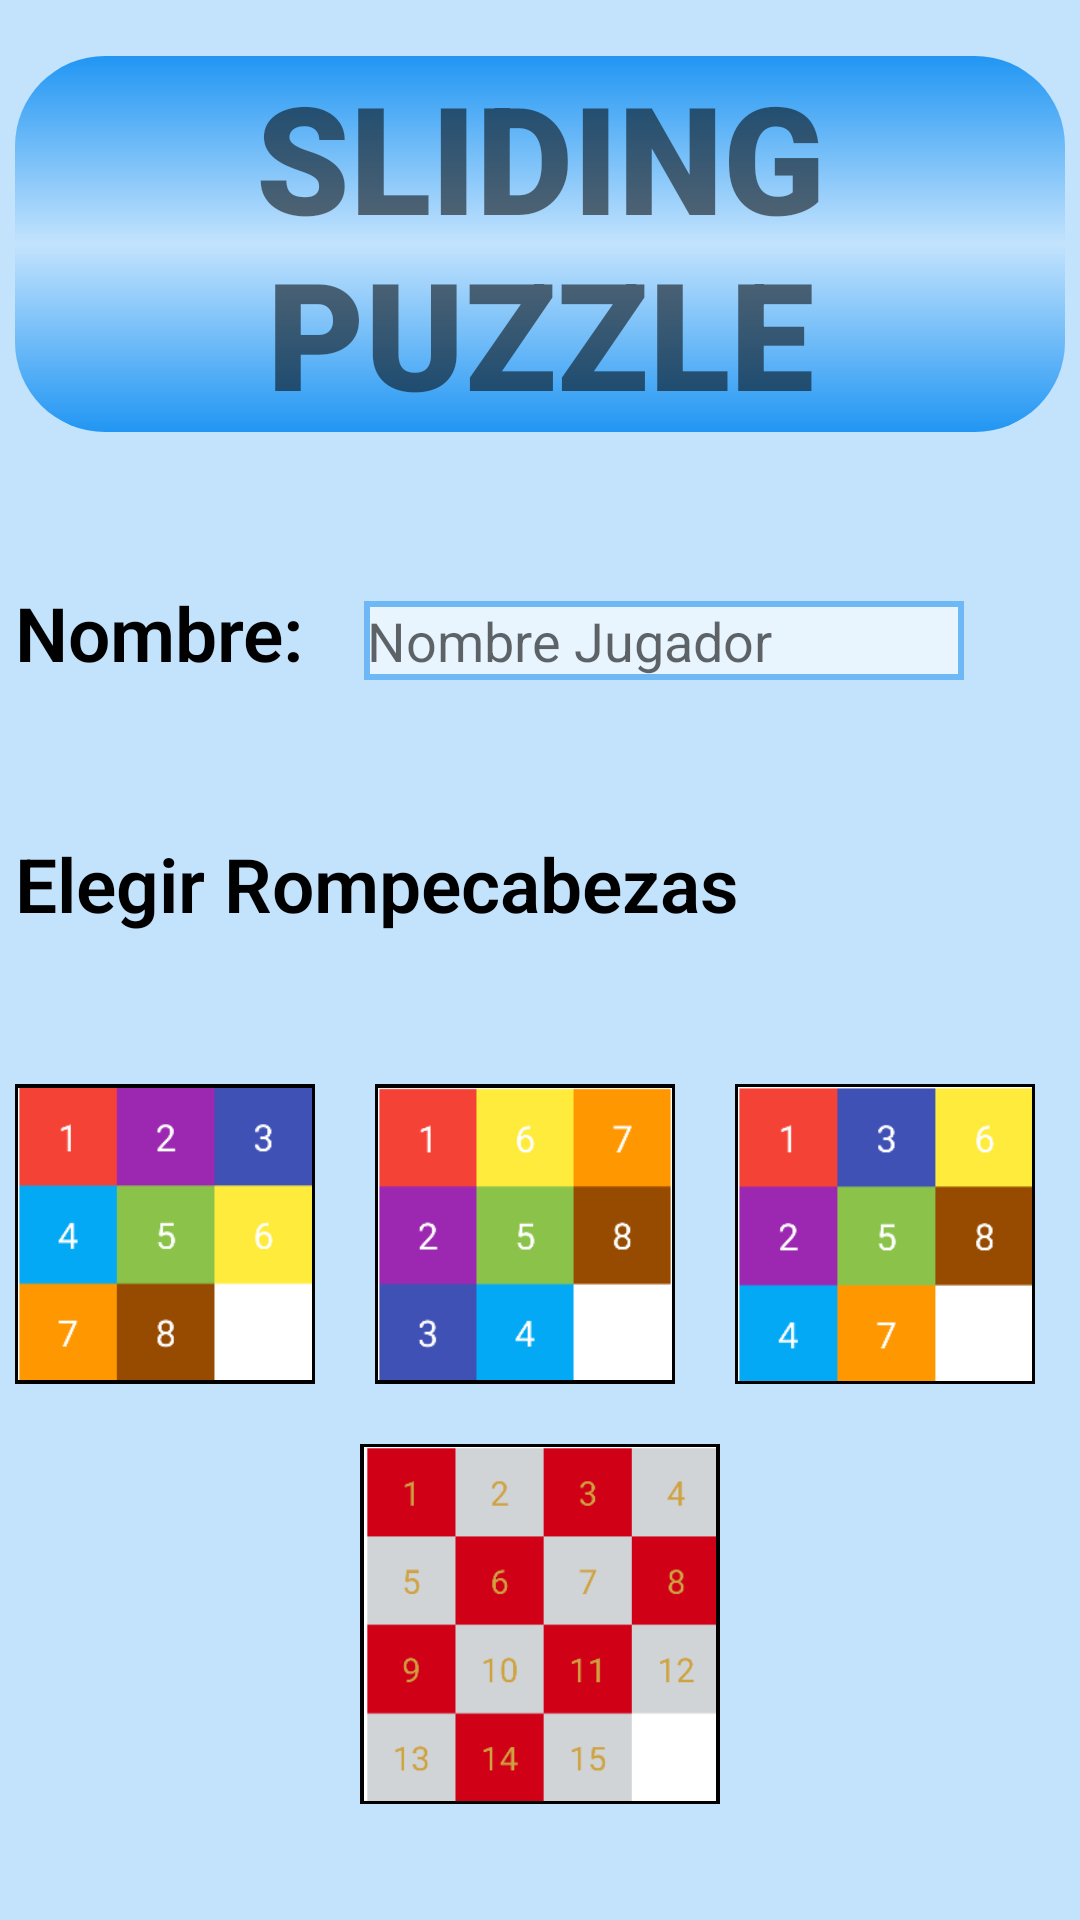

Point at icon controls on the screen. Image size 1080 x 1920, points as (x,y).
patron: (165,1234), (525,1234), (885,1234), (540,1624)
